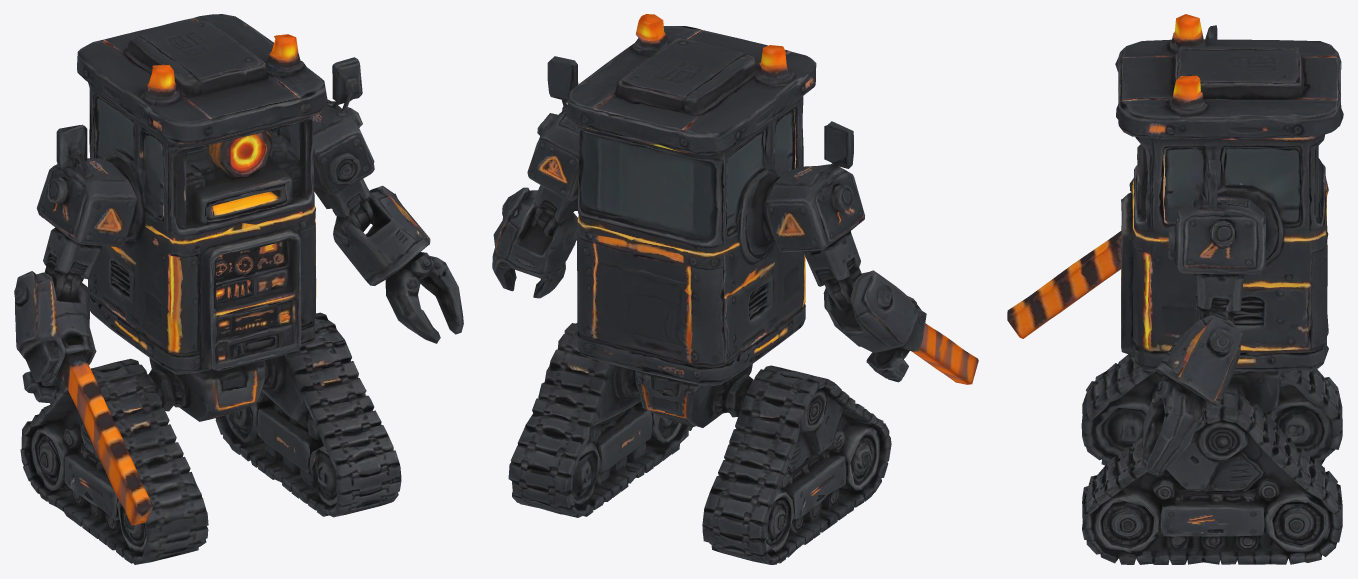
Rendered from boss-10-t.glb.
3 views of the same model, side by side, from view 1: azimuth 30°, elevation 25°; view 2: azimuth 150°, elevation 25°; view 3: azimuth 270°, elevation 25° (orthographic).
Parts seen in each view (by area): view 1: body, trackR, trackL, forearmR, shoulderR, forearmL, shoulderL; view 2: body, trackR, trackL, shoulderR, forearmR, shoulderL, forearmL; view 3: body, trackL, trackR, shoulderL, forearmL, forearmR.
Part boxes in pixels (x1,y1,x2,y2): body: (56, 14, 327, 421); trackR: (20, 358, 208, 564); trackL: (215, 312, 401, 517); forearmR: (14, 271, 153, 525); shoulderR: (36, 143, 136, 301); forearmL: (333, 185, 463, 343); shoulderL: (312, 57, 376, 231); body: (566, 14, 853, 427); trackR: (702, 365, 891, 564); trackL: (508, 323, 692, 517); shoulderR: (762, 163, 864, 310); forearmR: (823, 270, 978, 384); shoulderL: (527, 56, 578, 236); forearmL: (492, 187, 577, 298); body: (1115, 14, 1343, 413); trackL: (1082, 386, 1342, 564); trackR: (1081, 354, 1342, 465); shoulderL: (1168, 160, 1266, 322); forearmL: (1143, 313, 1242, 474); forearmR: (1007, 231, 1121, 338).
Bounding box in the file's own units: 0.9722 × 0.993 × 0.6635.
Materials: 1 (1 with a texture image).
